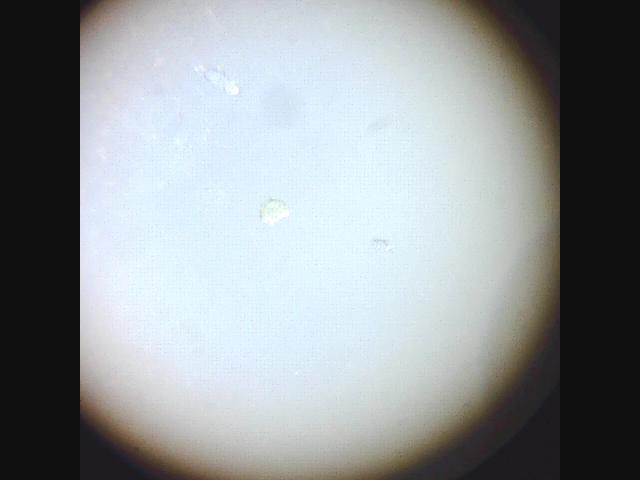alexandrium minutum: (255, 188, 297, 232)
